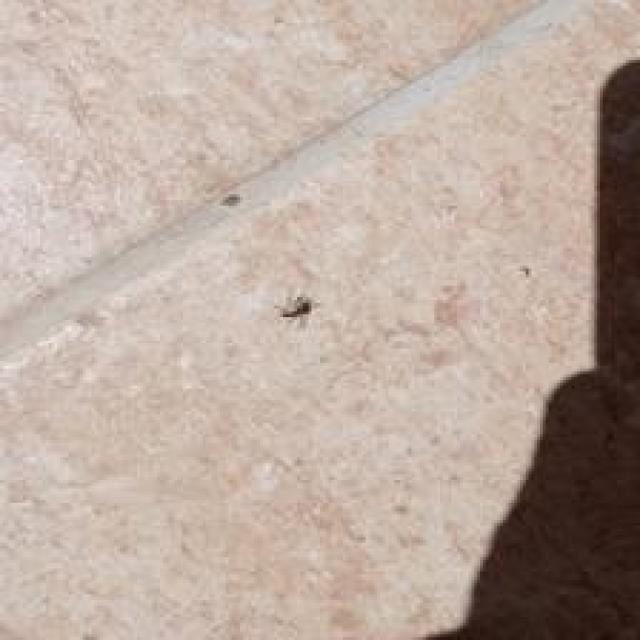Aedes albopictus: (354, 51, 640, 640)
